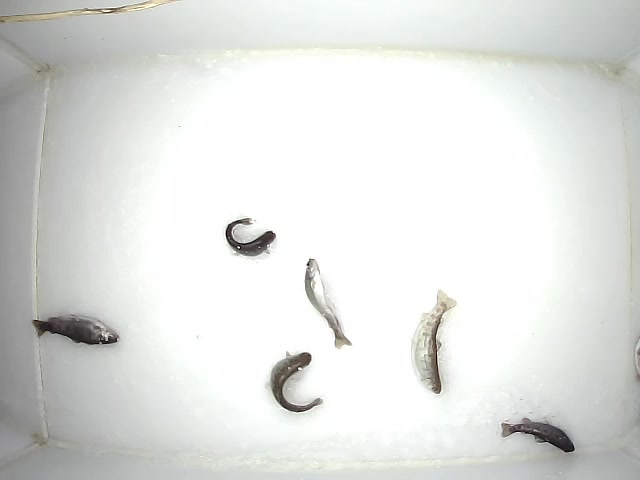fish: (410, 286, 457, 395), (303, 257, 355, 350), (265, 349, 324, 415), (499, 415, 575, 453), (30, 313, 120, 345), (224, 214, 276, 258)
